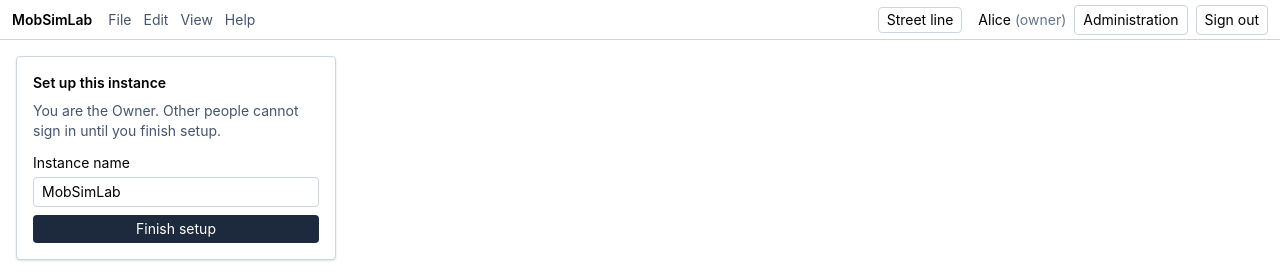
Test: App shell › shows the setup wizard to the Owner and sends the CSRF token
Replace the text in the field labelled "Instance name" with "Köln". click: (176, 192)
box: x1=33 y1=177 x2=319 y2=207
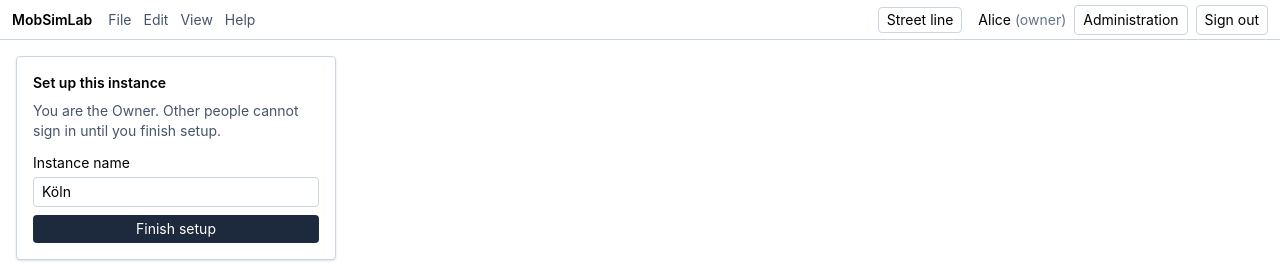
Click the button "Finish setup". click: (176, 229)
box: x1=33 y1=215 x2=319 y2=243
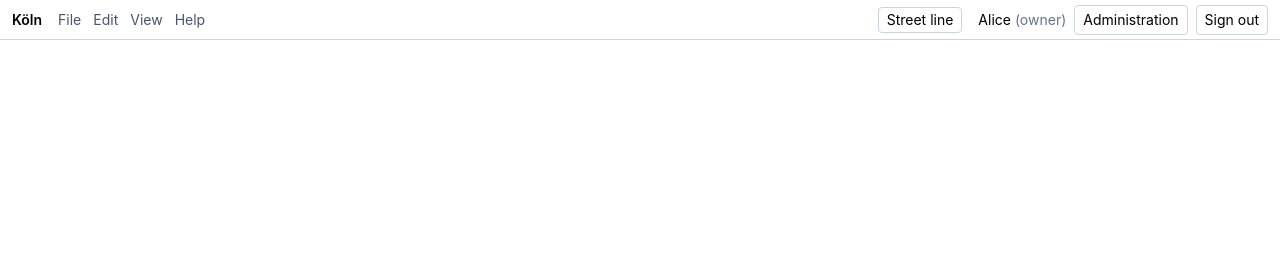
expect the text "setup" is gone: met
expect the text "Köln" is shown: met, box x1=12 y1=10 x2=42 y2=30
